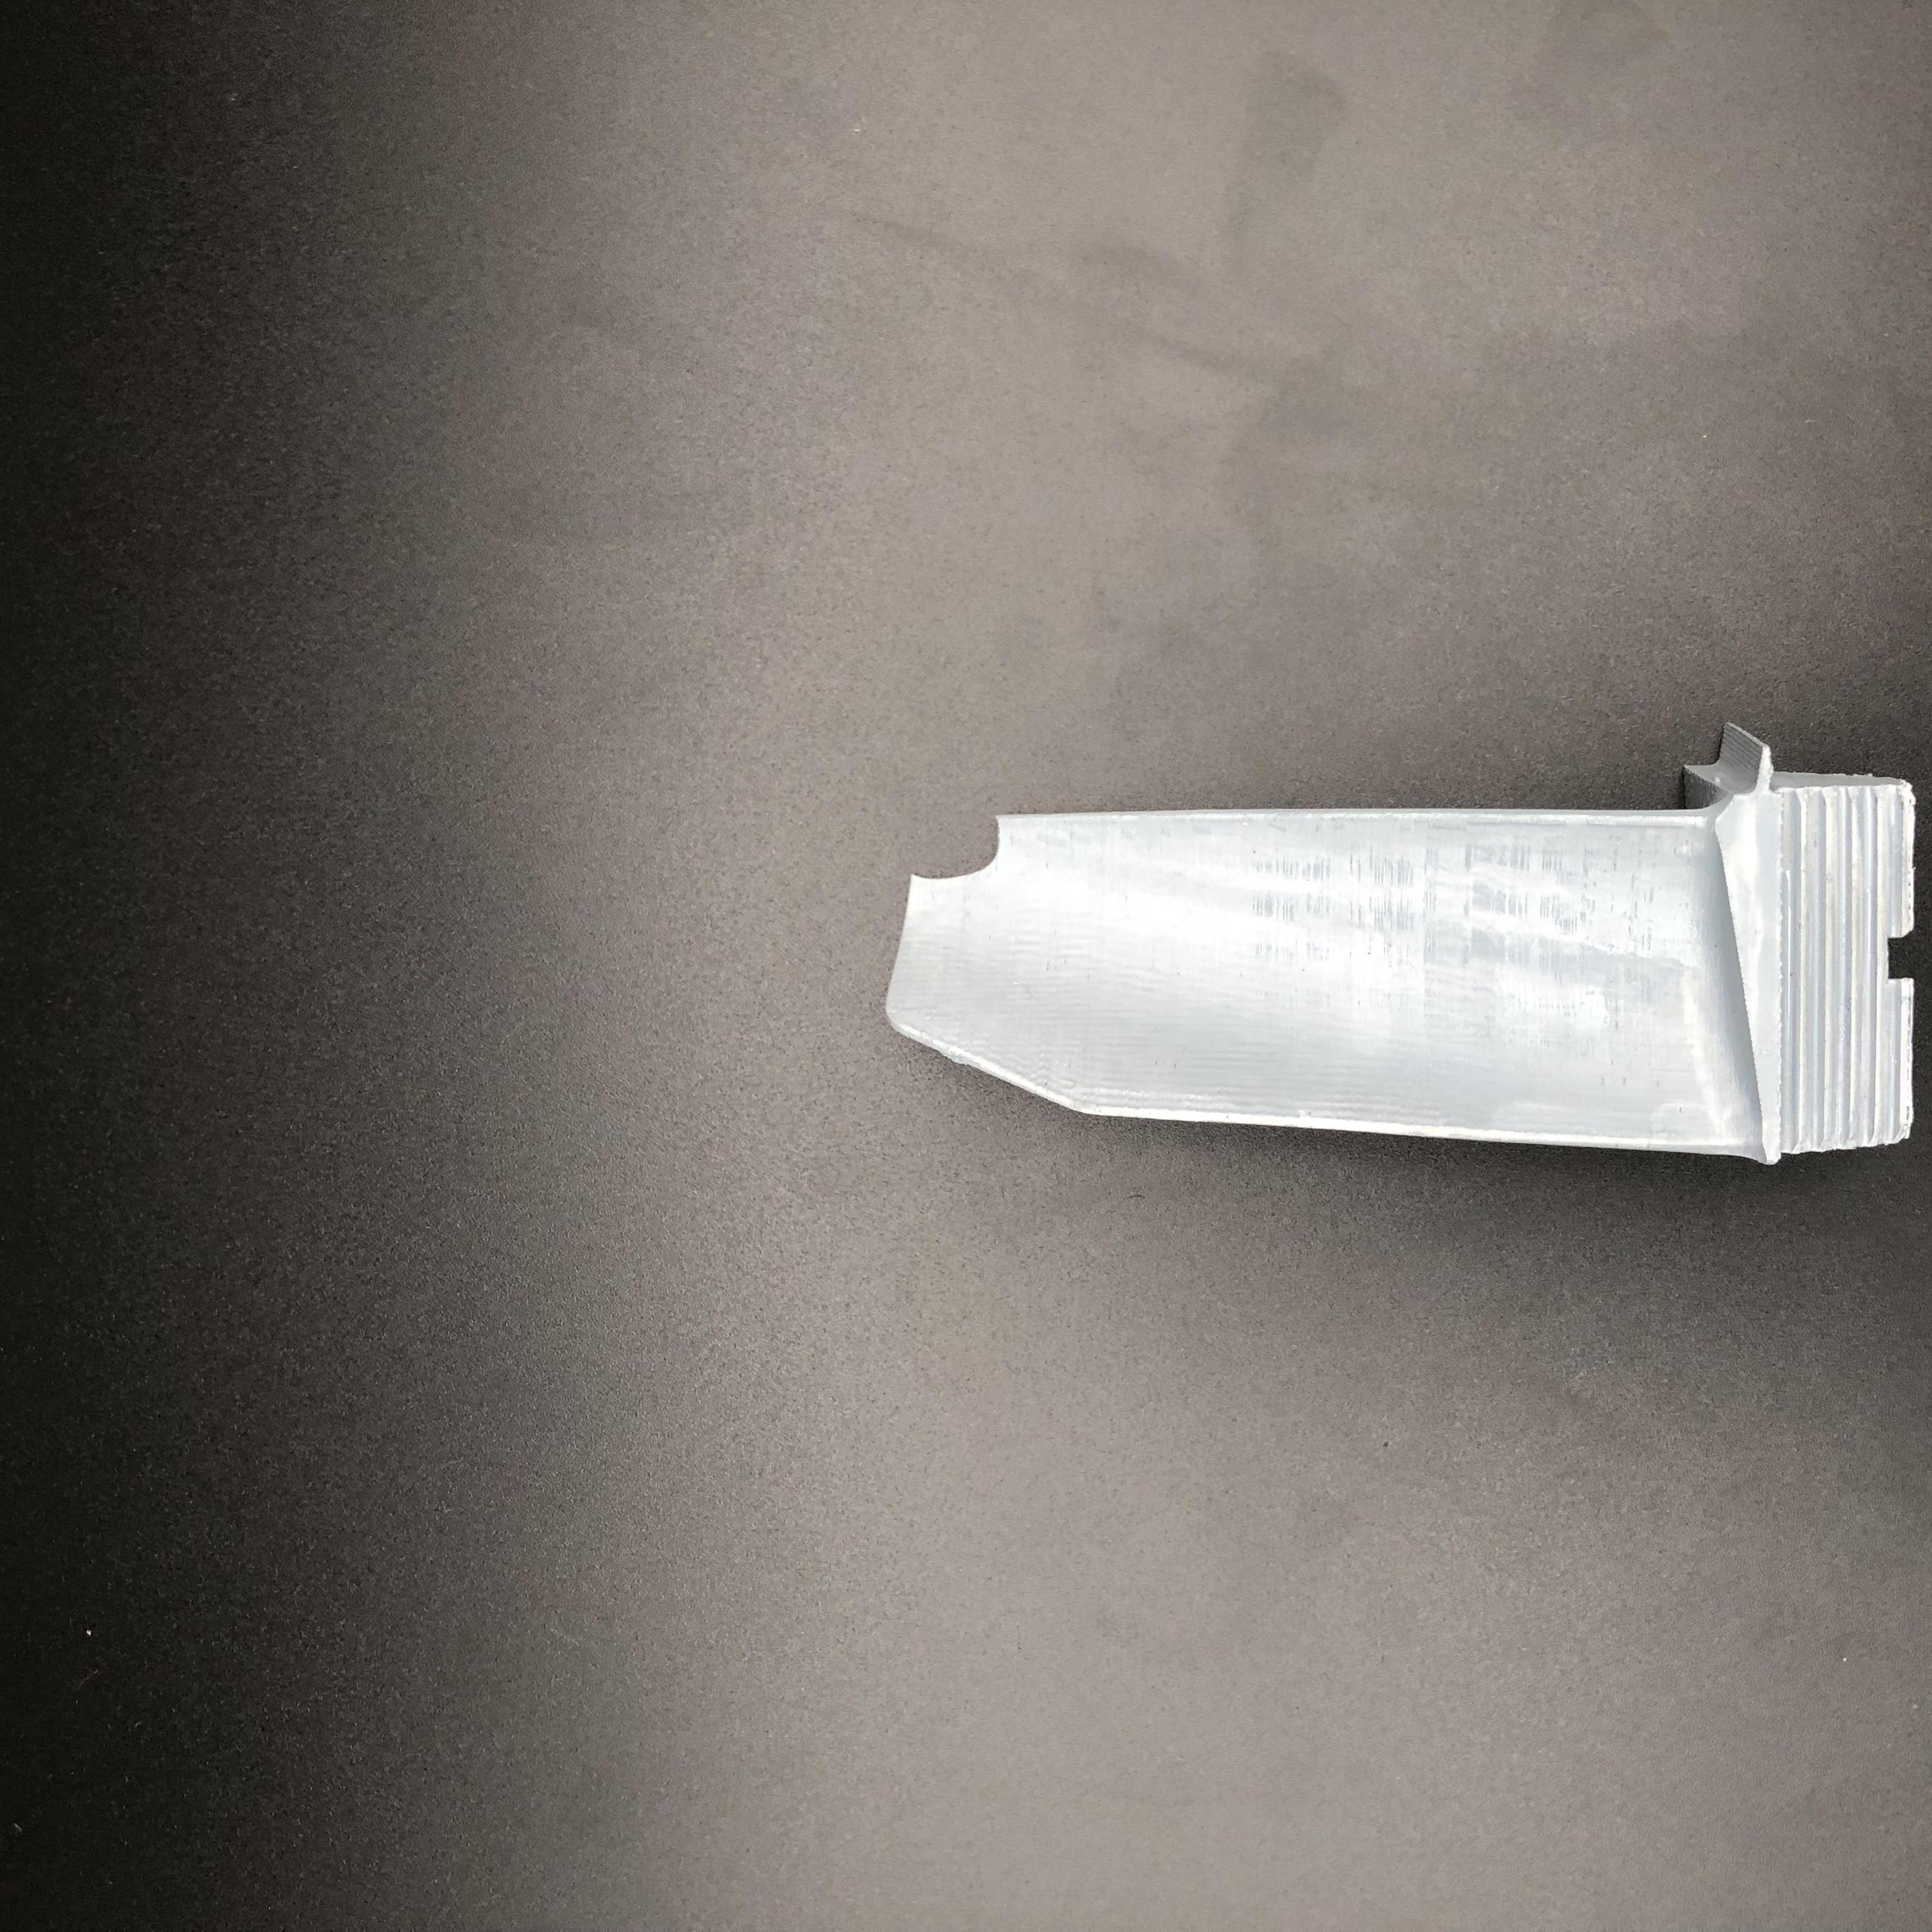fracture: (911, 809, 1024, 902)
